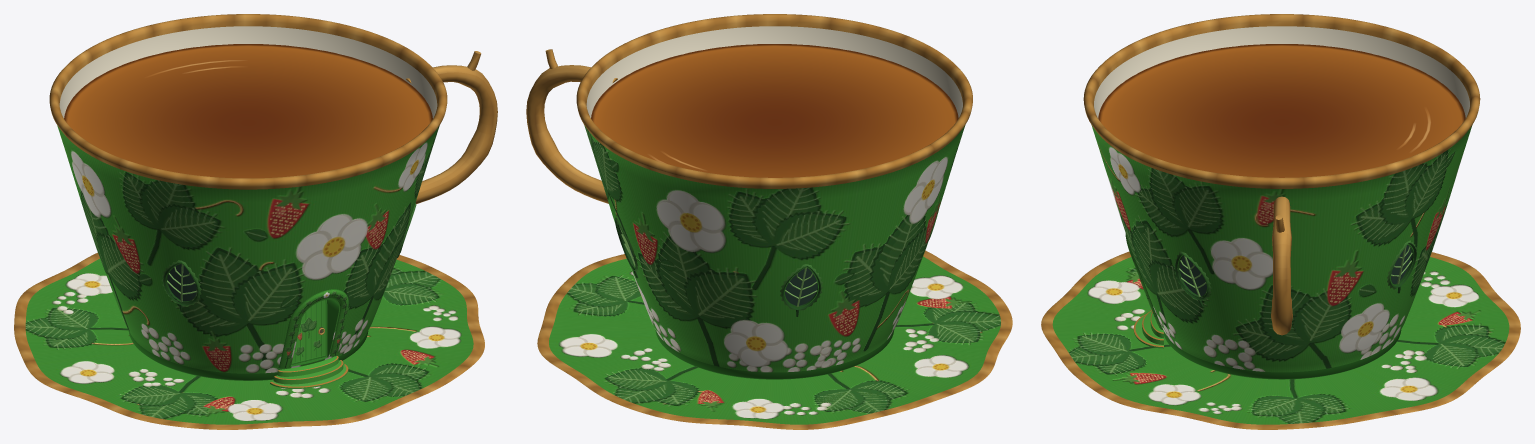
The model's file is strawberry_cup.glb.
The picture shows the model from 3 angles, left to right: view 1: azimuth 30°, elevation 25°; view 2: azimuth 150°, elevation 25°; view 3: azimuth 270°, elevation 25°; orthographic projection.
Visible parts, largest first — view 1: strawberry_cup-saucer, strawberry_cup-roof, strawberry_cup-wall-1, strawberry_cup-wall-0, strawberry_cup-wall-2, strawberry_cup-wall-7, strawberry_cup-wall-5, strawberry_cup-base, strawberry_cup-wall-4, strawberry_cup-shell, strawberry_cup-wall-6, strawberry_cup-wall-3 (+1 smaller); view 2: strawberry_cup-saucer, strawberry_cup-roof, strawberry_cup-wall-3, strawberry_cup-wall-4, strawberry_cup-wall-2, strawberry_cup-wall-5, strawberry_cup-wall-7, strawberry_cup-wall-0, strawberry_cup-shell, strawberry_cup-base, strawberry_cup-wall-6, strawberry_cup-wall-1; view 3: strawberry_cup-saucer, strawberry_cup-roof, strawberry_cup-wall-6, strawberry_cup-wall-5, strawberry_cup-wall-7, strawberry_cup-wall-2, strawberry_cup-base, strawberry_cup-wall-1, strawberry_cup-wall-3, strawberry_cup-shell, strawberry_cup-wall-0, strawberry_cup-wall-4.
Boxes of the visible parts, x1,y1,x2,y2 form: strawberry_cup-saucer: (14,252,484,429); strawberry_cup-roof: (64,44,432,178); strawberry_cup-wall-1: (127,161,274,367); strawberry_cup-wall-0: (265,146,406,368); strawberry_cup-wall-2: (51,107,171,355); strawberry_cup-wall-7: (348,86,447,346); strawberry_cup-wall-5: (223,14,367,59); strawberry_cup-base: (127,328,369,388); strawberry_cup-wall-4: (92,14,224,74); strawberry_cup-shell: (406,51,497,204); strawberry_cup-wall-6: (361,31,445,111); strawberry_cup-wall-3: (49,46,101,118); strawberry_cup-saucer: (537,250,1012,429); strawberry_cup-roof: (591,44,958,177); strawberry_cup-wall-3: (749,161,895,365); strawberry_cup-wall-4: (617,146,758,365); strawberry_cup-wall-2: (851,107,971,354); strawberry_cup-wall-5: (576,85,675,344); strawberry_cup-wall-7: (656,14,799,59); strawberry_cup-wall-0: (799,14,929,73); strawberry_cup-shell: (526,49,617,203); strawberry_cup-base: (655,328,894,379); strawberry_cup-wall-6: (578,31,662,110); strawberry_cup-wall-1: (921,46,972,239); strawberry_cup-saucer: (1041,251,1520,429); strawberry_cup-roof: (1098,44,1465,177); strawberry_cup-wall-6: (1206,171,1357,365); strawberry_cup-wall-5: (1330,127,1464,361); strawberry_cup-wall-7: (1099,127,1233,361); strawberry_cup-wall-2: (1207,14,1356,49); strawberry_cup-base: (1133,310,1401,379); strawberry_cup-wall-1: (1101,20,1211,91); strawberry_cup-wall-3: (1352,20,1462,91); strawberry_cup-shell: (1271,196,1292,335); strawberry_cup-wall-0: (1083,65,1166,332); strawberry_cup-wall-4: (1397,65,1480,332).
Bounding box in the file's own units: 14.55 × 7.17 × 13.26.
Materials: 2 (1 with a texture image).
